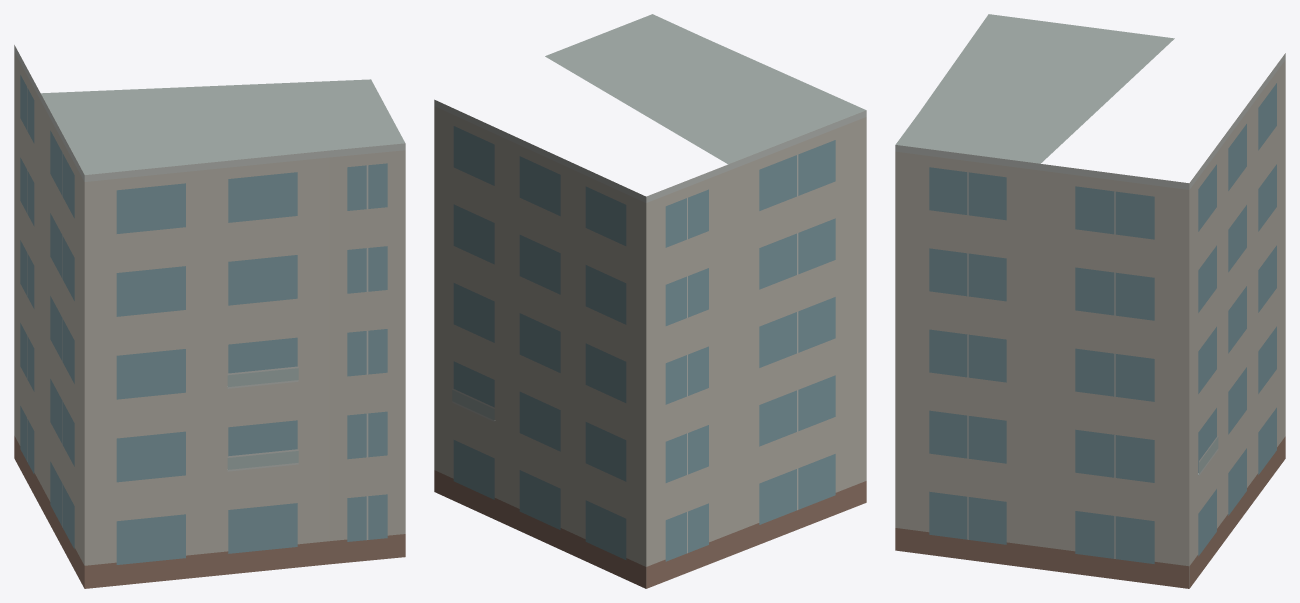
File: survey-upis-32994745.glb
3 views of the same model, side by side, from view 1: azimuth 30°, elevation 25°; view 2: azimuth 150°, elevation 25°; view 3: azimuth 270°, elevation 25° (orthographic). The views are drawn at different scales.
Parts seen in each view (by area): view 1: survey-upis-32994745.tmp; view 2: survey-upis-32994745.tmp; view 3: survey-upis-32994745.tmp.
Boxes of the visible parts, x1,y1,x2,y2 form: survey-upis-32994745.tmp: [14, 45, 405, 588]; survey-upis-32994745.tmp: [434, 14, 866, 588]; survey-upis-32994745.tmp: [895, 14, 1285, 588].
Size of the model in its own units: 13.07 by 14.6 by 12.74.
